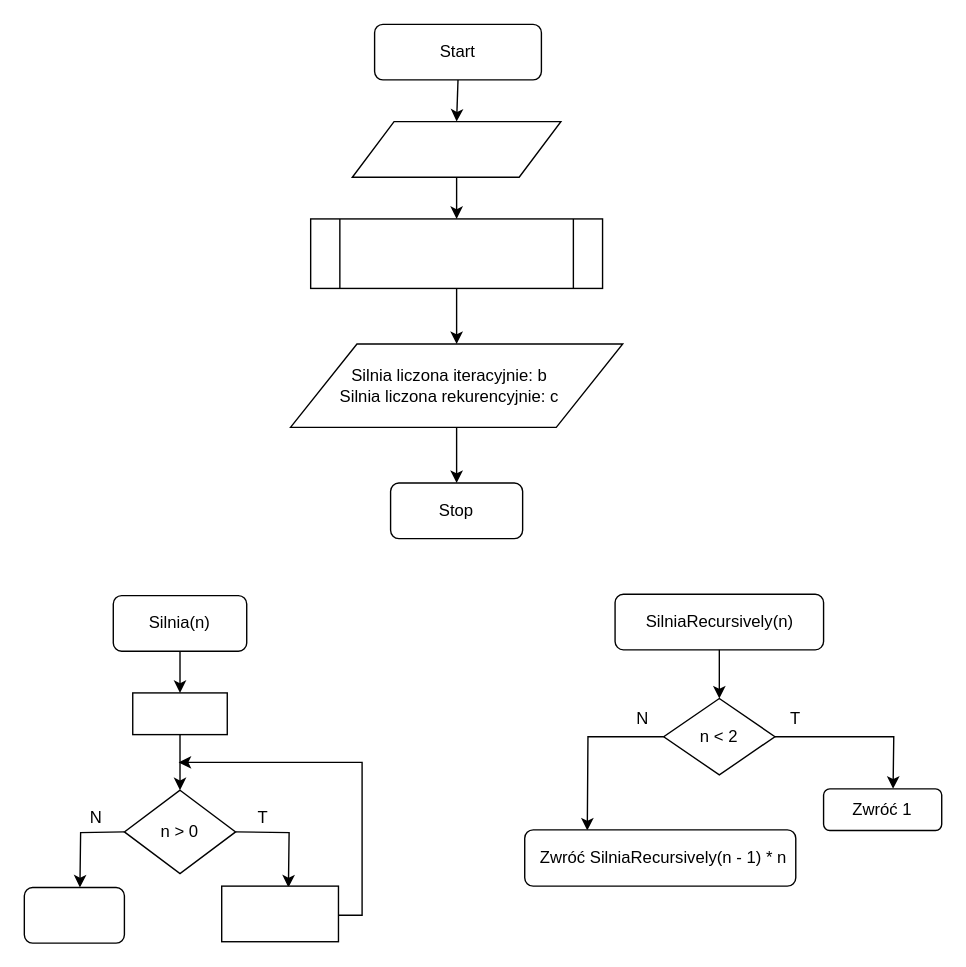
Image size: 966x967. Some labels were removed from this diagram. Here are the shapes that lost their labels. From the top down, the box of each, then its label:
(351, 120, 561, 177): Podaj liczbę a
(309, 218, 603, 288): b = Silnia(a) c = SilniaRecursively(a)
(131, 692, 227, 735): a = 1
(23, 886, 124, 943): Zwróć a
(220, 885, 338, 942): a = a * n n = n - 1
